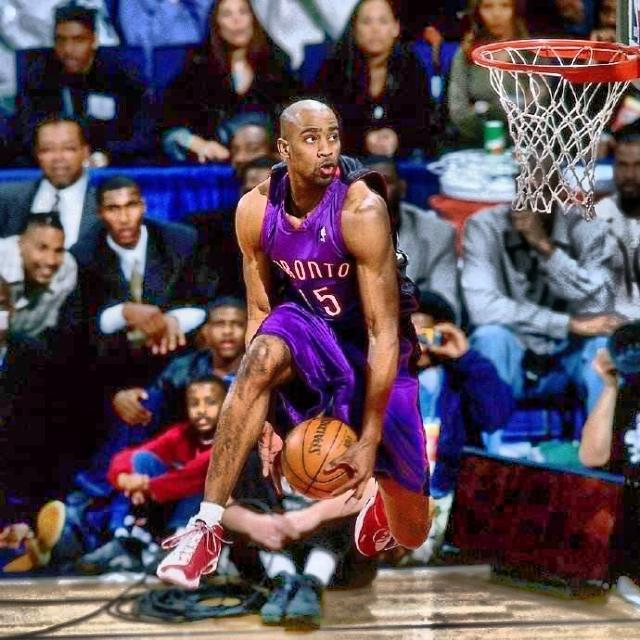rim: (465, 38, 637, 217)
